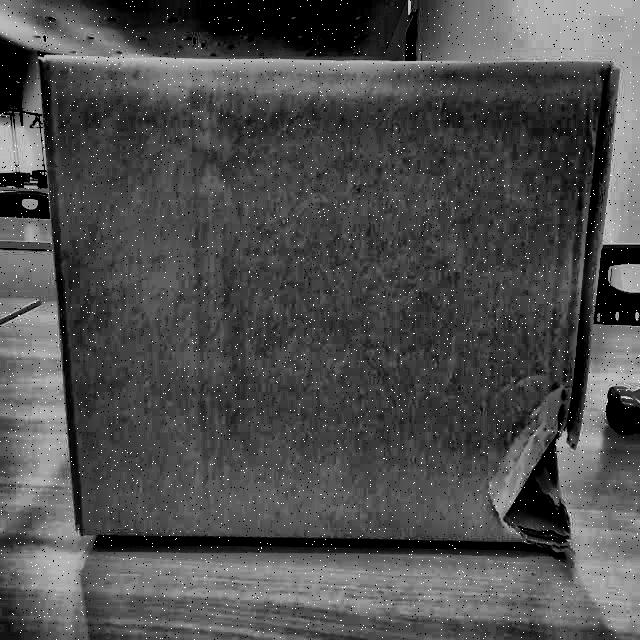box: (29, 46, 627, 563)
hole: (500, 418, 583, 556)
